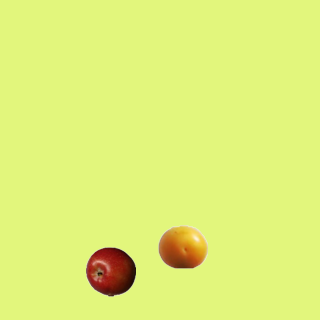Apple Braeburn: (85, 246, 135, 296)
Cherry Wax Yellow: (157, 221, 207, 271)
